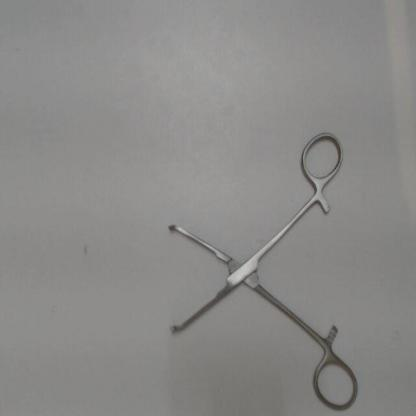Allis Tissue Forceps: (162, 125, 364, 414)
